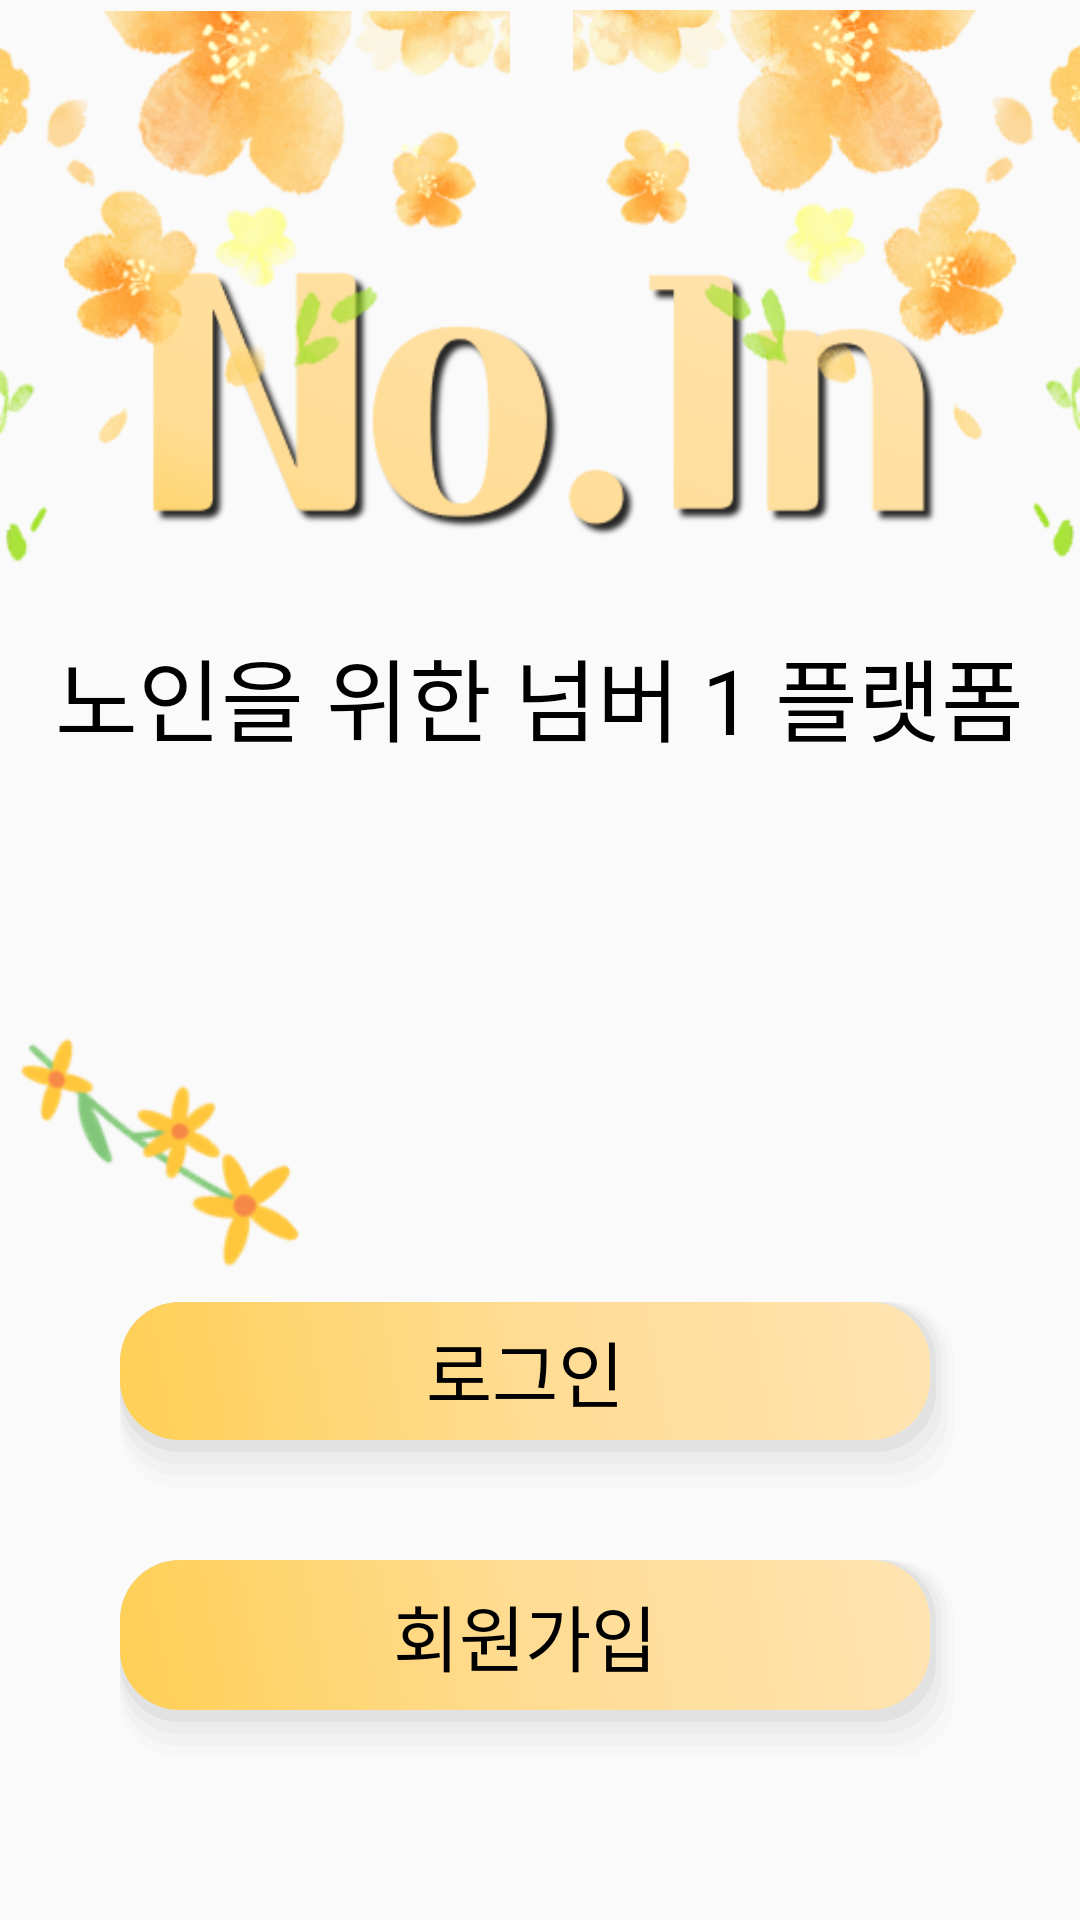

Locate icon controls on the screen. Image size 1080*1920, boxes as rect(x1, y1, x2, y2).
flowermid: rect(21, 1039, 299, 1266)
